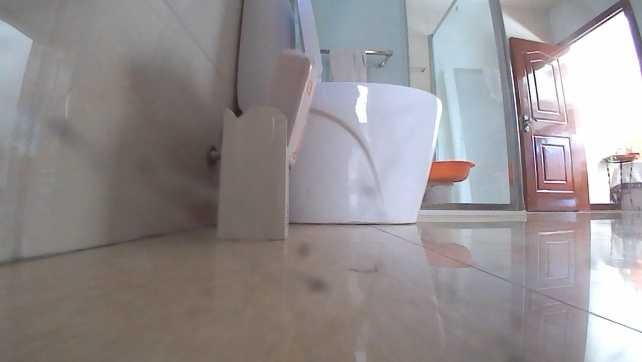toilet: (233, 0, 446, 225)
